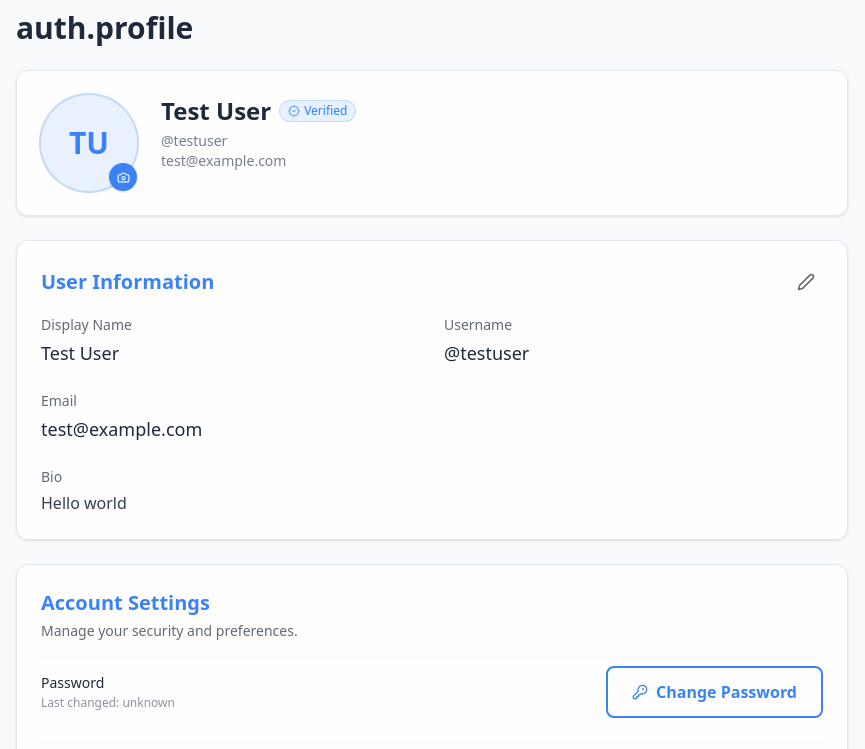
Test: Profile (7.x) › 7.2 — clicking edit icon opens the edit form
This screenshot has width=865, height=749.
What coordinates should you click on to do the following:
click the button titled "Edit Profile"
I would click on:
 (806, 282)
Its box is [789,265,823,299].
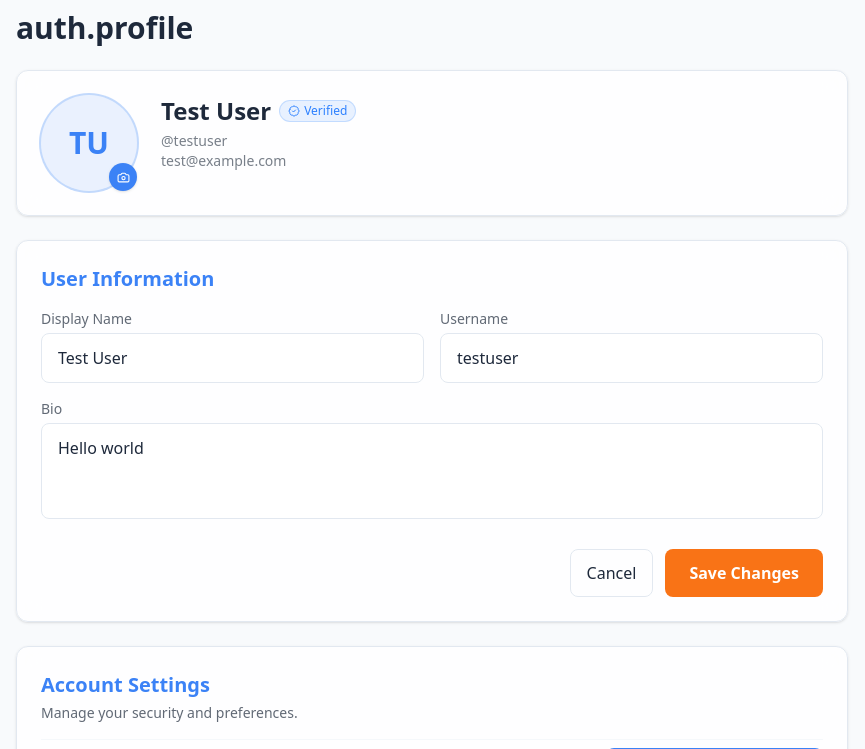
expect the field with placeholder "johndoe" below "Username" is shown: met, box [440,333,823,383]
